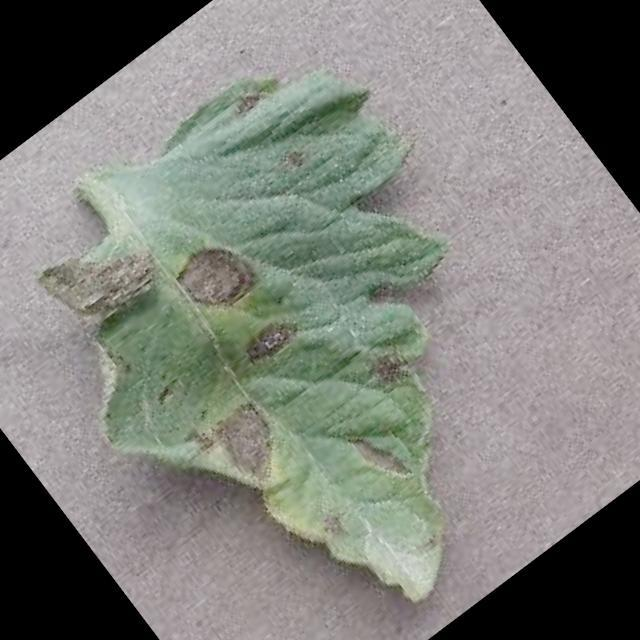Tomato Early blight leaf: (0, 5, 635, 640)
